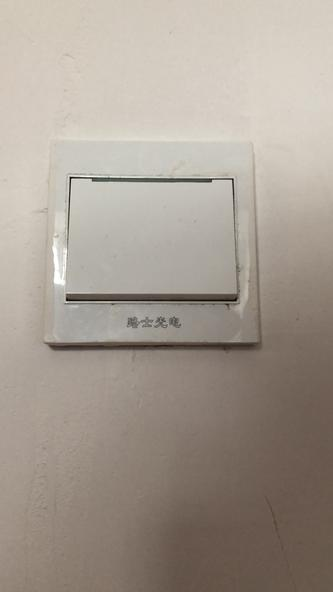switch: (64, 166, 247, 316)
